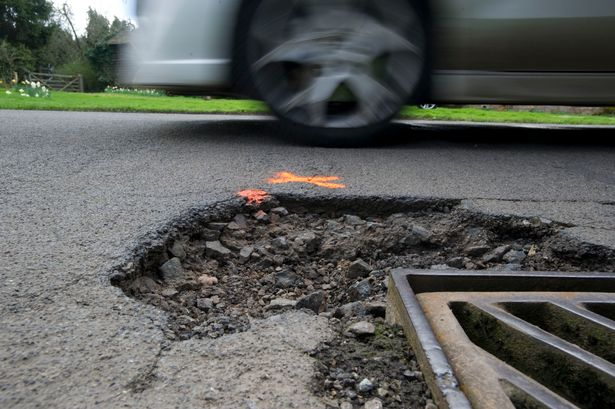pothole: (113, 161, 519, 311)
